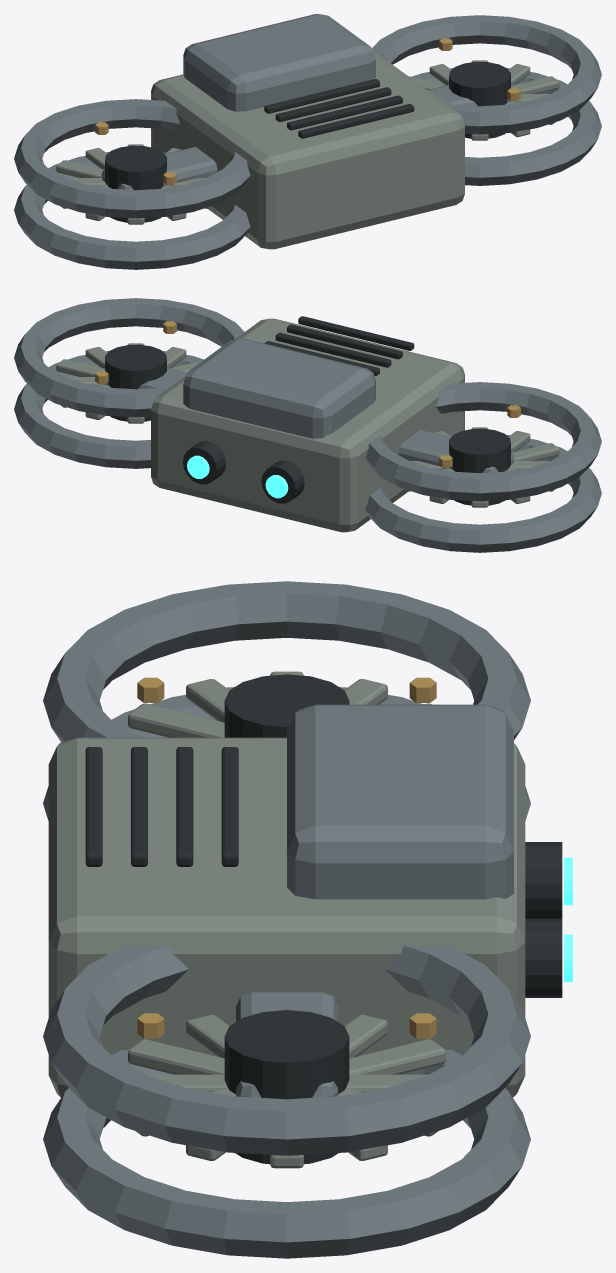
The model's file is drone_E05.glb.
3 renders of one model, top to bottom at view 1: azimuth 30°, elevation 25°; view 2: azimuth 150°, elevation 25°; view 3: azimuth 270°, elevation 25°, orthographic. The views are drawn at different scales.
Visible parts, largest first — view 1: Cube, Cube.001, Torus.001, Torus.003, Torus, Torus.002, Cylinder, Cylinder.003, Cube.002, Cube.016, Cube.018, Cube.017 (+6 smaller); view 2: Cube, Cube.001, Torus.001, Torus.003, Torus, Torus.002, Cylinder, Cylinder.003, Cube.002, Cube.016, Cube.018, Cube.017 (+10 smaller); view 3: Cube, Cube.001, Torus.003, Torus.002, Torus.001, Cylinder.003, Cylinder, Cylinder.008, Cylinder.006, Cube.009, Cube.012, Cube.014 (+11 smaller).
Part boxes in pixels (x1,y1,x2,y2): Cube: (151,50,464,249); Cube.001: (183,14,375,111); Torus.001: (14,99,250,218); Torus.003: (372,15,601,134); Torus: (14,152,250,269); Torus.002: (412,68,601,185); Cylinder: (105,145,166,222); Cylinder.003: (449,61,510,138); Cube.002: (101,147,217,189); Cube.016: (298,104,414,138); Cube.018: (275,87,391,121); Cube.017: (287,95,402,130); Cube: (151,318,464,532); Cube.001: (183,338,375,438); Torus.001: (365,382,601,501); Torus.003: (14,298,244,417); Torus: (365,435,601,552); Torus.002: (14,351,203,468); Cylinder: (449,428,510,505); Cylinder.003: (105,344,166,421); Cube.002: (398,430,514,472); Cube.016: (298,316,414,350); Cube.018: (275,332,391,367); Cube.017: (287,324,402,359); Cube: (48,737,525,1097); Cube.001: (287,704,513,899); Torus.003: (43,945,530,1155); Torus.002: (43,1050,530,1258); Torus.001: (43,581,530,742); Cylinder.003: (224,1010,349,1164); Cylinder: (224,674,349,737); Cylinder.008: (525,918,562,997); Cylinder.006: (525,842,562,918); Cube.009: (236,992,337,1097); Cube.012: (128,1039,438,1136); Cube.014: (135,1039,445,1136).
Bounding box in the file's own units: 1.13 × 0.24 × 0.467.
